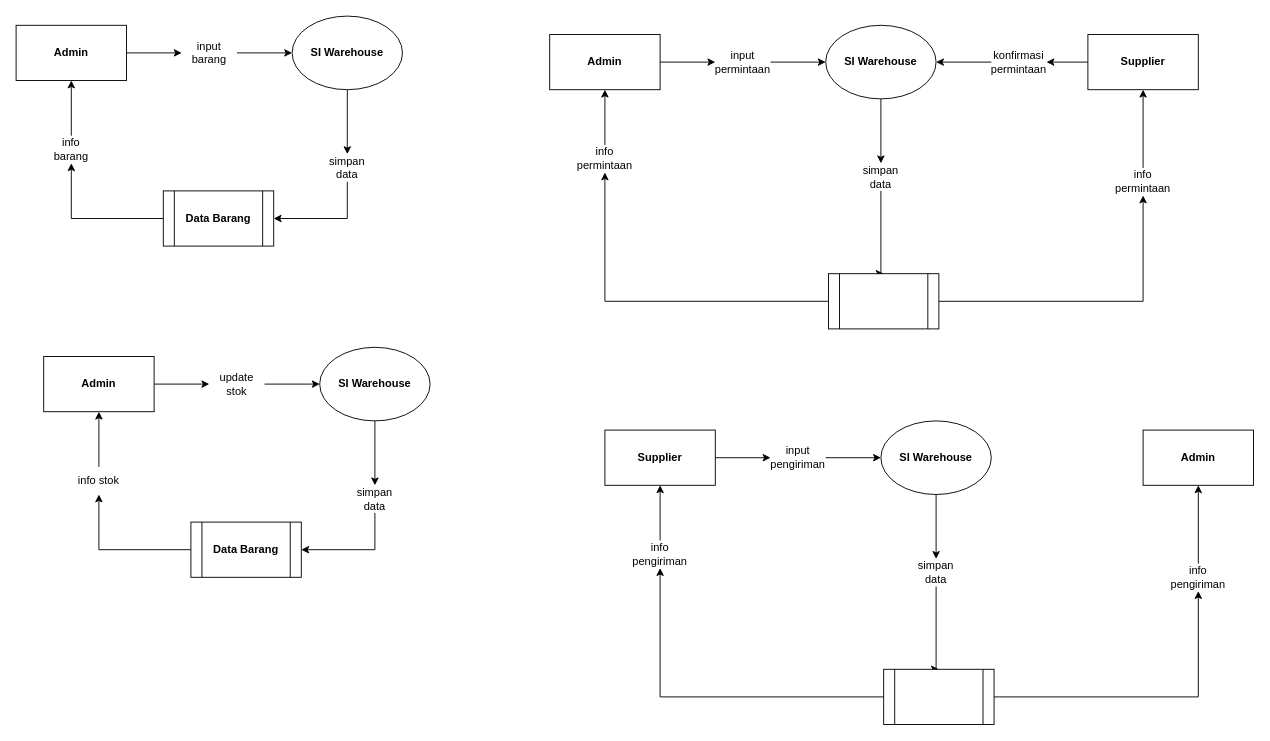
The diagram is 1270 pixels wide and 741 high, and some of its shapes have lost their labels. Each missing label, with the centre of its shape:
"Data Pengiriman" belongs at pixel 938 696.
"Data Permintaan" belongs at pixel 883 301.
